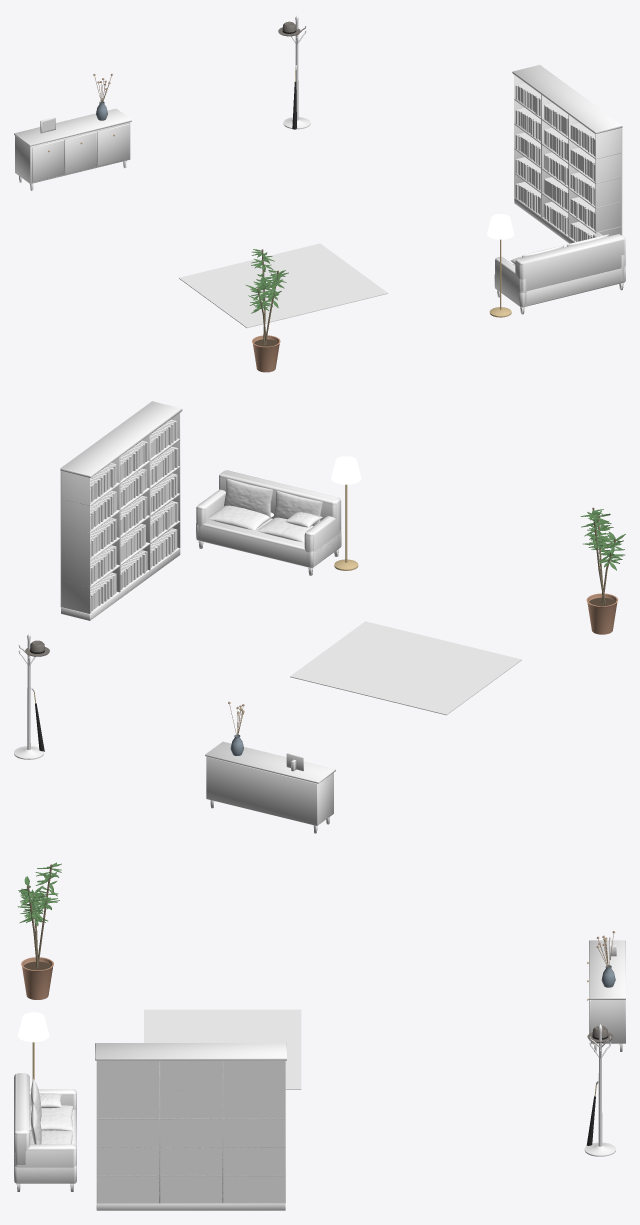
The model's file is SaekiHome_Interior.fbx.
3 views of the same model, one above another, from view 1: azimuth 30°, elevation 25°; view 2: azimuth 150°, elevation 25°; view 3: azimuth 270°, elevation 25° (orthographic). The views are drawn at different scales.
Parts seen in each view (by area): view 1: SaekiHome_Interior; view 2: SaekiHome_Interior; view 3: SaekiHome_Interior.
Boxes of the visible parts, <box> form: SaekiHome_Interior: <box>14,15,625,372</box>; SaekiHome_Interior: <box>14,401,625,833</box>; SaekiHome_Interior: <box>14,862,625,1210</box>.
Bounding box in the file's own units: 6.78 × 2.14 × 7.78.
